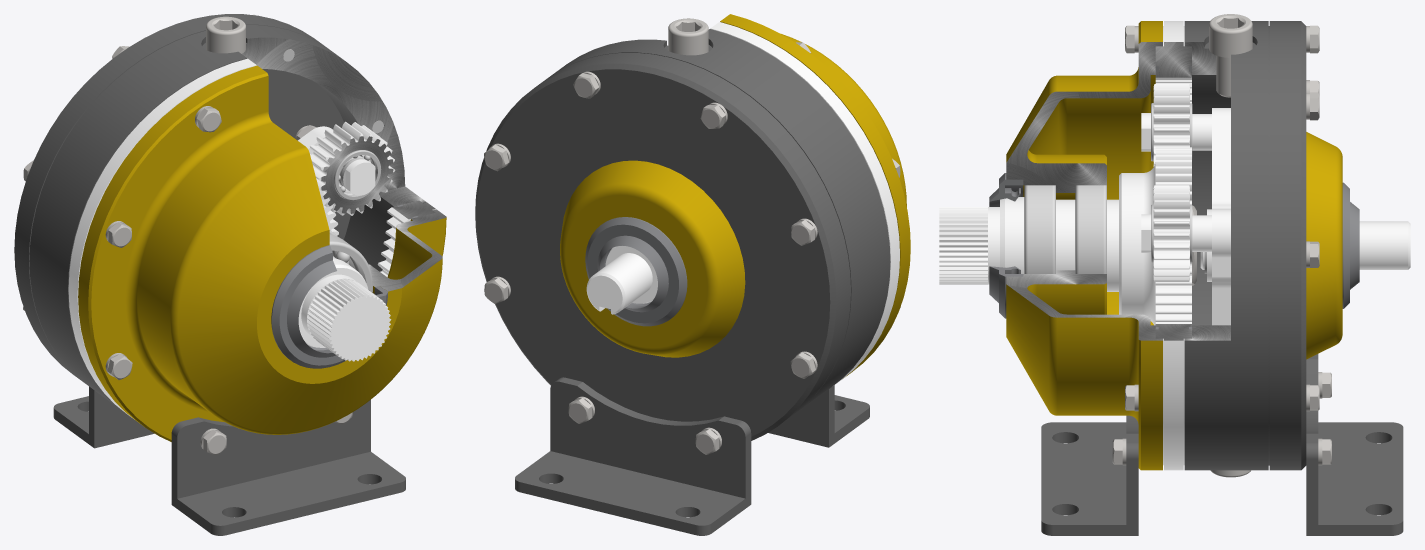
The model's file is gearbox_planetary.glb.
The picture shows the model from 3 angles, left to right: view 1: azimuth 30°, elevation 25°; view 2: azimuth 150°, elevation 25°; view 3: azimuth 270°, elevation 25°; orthographic projection. The views are drawn at different scales.
Parts seen in each view (by area): view 1: Object_139, Object_2, Object_3, Object_4, Object_143, Object_129, Object_130, Object_120, Object_140, Object_134, Object_113, Object_110 (+4 smaller); view 2: Object_4, Object_2, Object_138, Object_3, Object_139, Object_121, Object_130, Object_131, Object_113, Object_106, Object_107, Object_105; view 3: Object_139, Object_3, Object_2, Object_4, Object_143, Object_136, Object_138, Object_129, Object_135, Object_130, Object_134, Object_98 (+9 smaller).
Part boxes in pixels (box(x1,y1,x2,y2)): Object_139: box(78, 65, 446, 441); Object_2: box(53, 386, 405, 535); Object_3: box(29, 25, 426, 412); Object_4: box(14, 14, 350, 382); Object_143: box(242, 37, 446, 291); Object_129: box(298, 258, 391, 361); Object_130: box(68, 58, 435, 419); Object_120: box(271, 245, 387, 368); Object_140: box(321, 136, 393, 213); Object_134: box(310, 121, 395, 215); Object_113: box(206, 16, 245, 53); Object_110: box(108, 108, 221, 247); Object_4: box(475, 53, 850, 440); Object_2: box(515, 377, 869, 535); Object_138: box(560, 160, 745, 357); Object_3: box(550, 29, 890, 413); Object_139: box(720, 14, 910, 378); Object_121: box(585, 217, 687, 326); Object_130: box(710, 22, 899, 385); Object_131: box(586, 246, 657, 314); Object_113: box(668, 18, 708, 55); Object_106: box(695, 104, 725, 454); Object_107: box(568, 352, 815, 423); Object_105: box(484, 144, 814, 245); Object_139: box(1006, 21, 1162, 470); Object_3: box(1184, 21, 1269, 470); Object_2: box(1041, 354, 1403, 535); Object_4: box(1269, 21, 1306, 470); Object_143: box(1006, 42, 1230, 340); Object_136: box(1119, 147, 1191, 325); Object_138: box(1306, 132, 1342, 359); Object_129: box(939, 197, 1024, 284); Object_135: box(1192, 108, 1230, 325); Object_130: box(1155, 21, 1191, 470); Object_134: box(1153, 185, 1189, 281); Object_98: box(1075, 185, 1106, 273).
Size of the model in its own units: 0.185 by 0.21 by 0.194.
8 materials, 2 textured.
